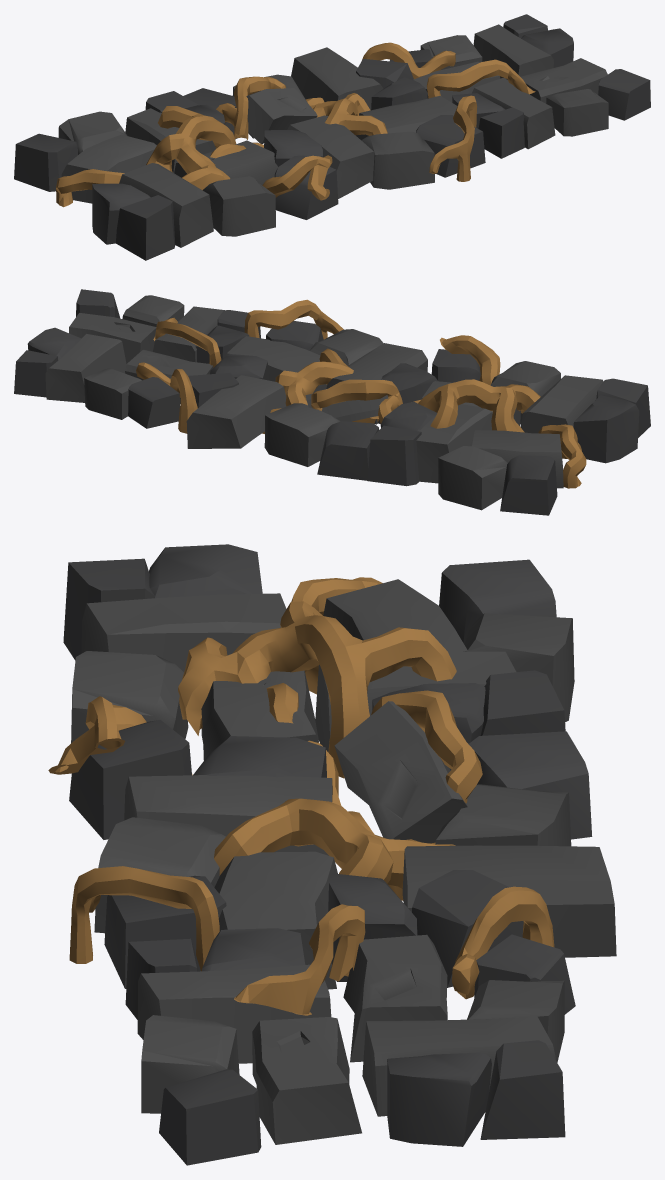
File: ea01_env_road_cobble_01a_pre_4_lev1.glb
3 renders of one model, top to bottom at view 1: azimuth 30°, elevation 25°; view 2: azimuth 150°, elevation 25°; view 3: azimuth 270°, elevation 25°, orthographic. The views are drawn at different scales.
Parts seen in each view (by area): view 1: ea01_env_road_cobble_01a_pre_4_lev1; view 2: ea01_env_road_cobble_01a_pre_4_lev1; view 3: ea01_env_road_cobble_01a_pre_4_lev1.
Part boxes in pixels (left/top/right/bottom): ea01_env_road_cobble_01a_pre_4_lev1: left=14, top=14, right=650, bottom=260; ea01_env_road_cobble_01a_pre_4_lev1: left=14, top=289, right=650, bottom=515; ea01_env_road_cobble_01a_pre_4_lev1: left=48, top=544, right=616, bottom=1165.
Bounding box in the file's own units: 6.11 × 0.7482 × 2.73.
Materials: 1 (1 with a texture image).
